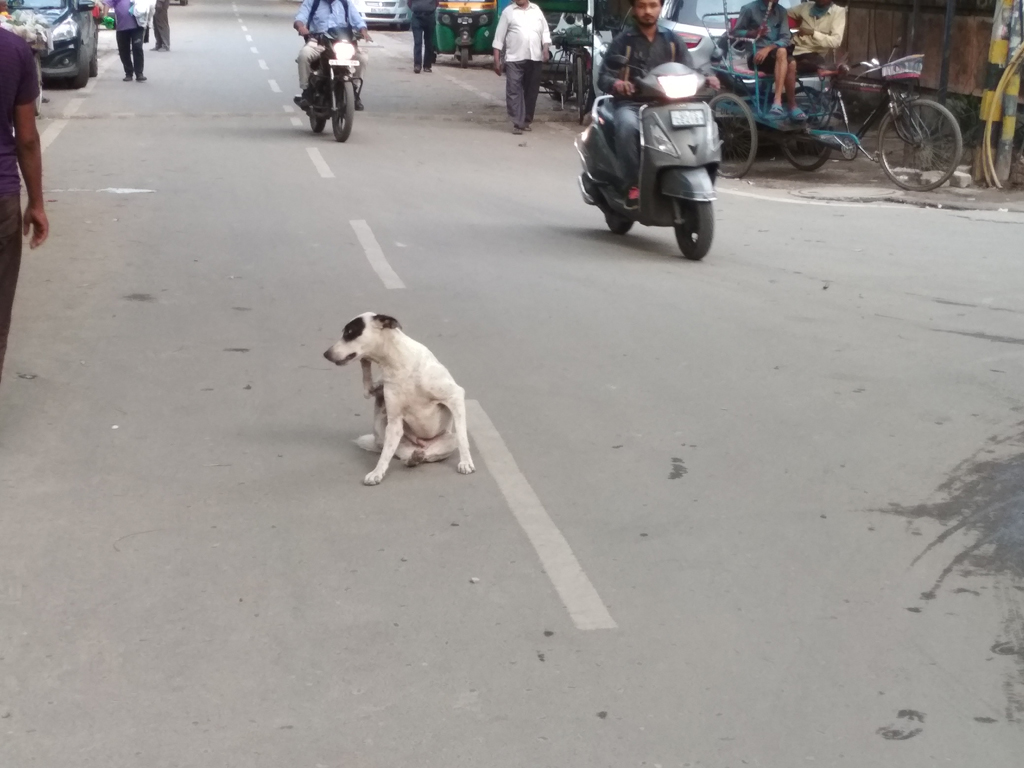dog: (323, 311, 474, 484)
